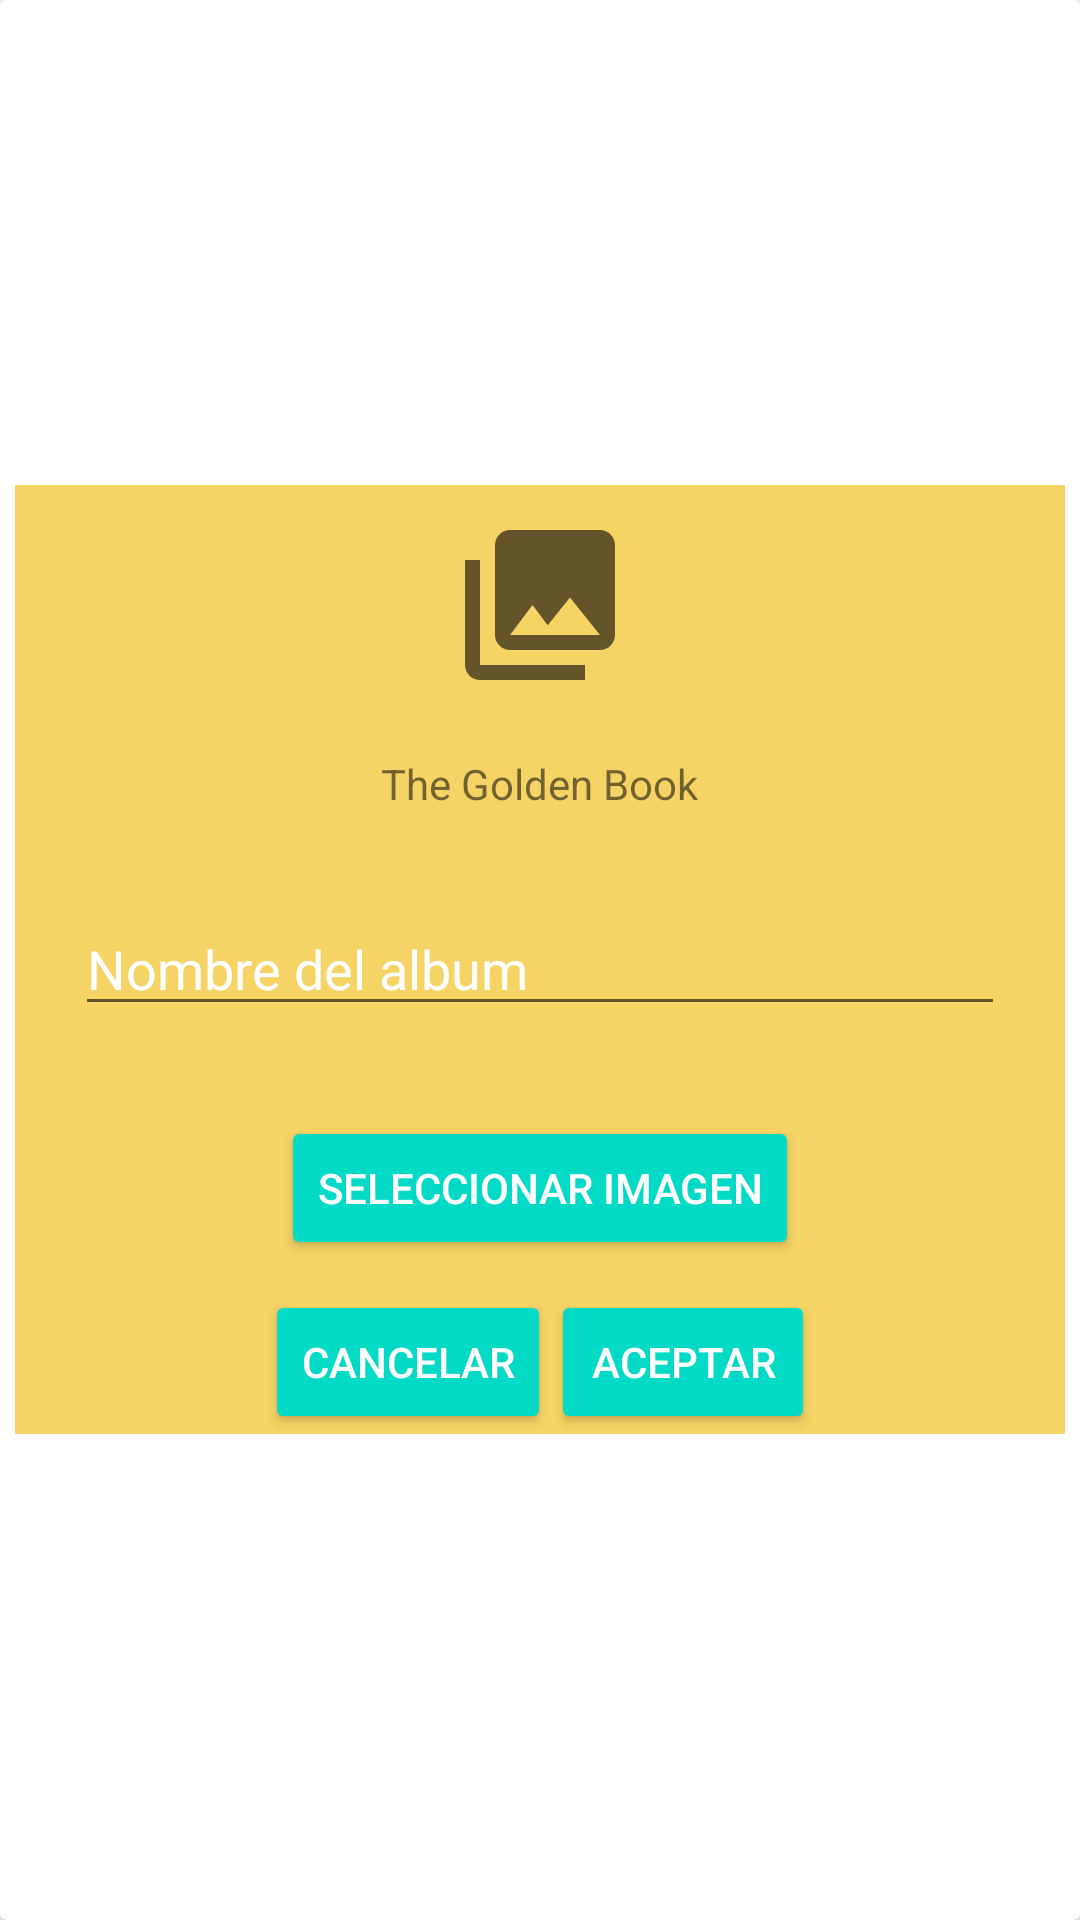

Icons on this 1080px×1920px Android screen, each with its box as bbox=[x1, y1, x2, y2]:
album: bbox=[465, 530, 615, 680]
